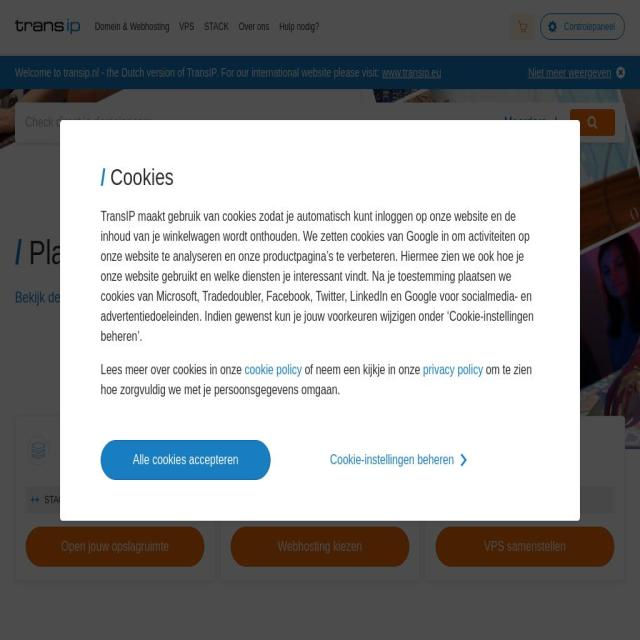button: (230, 526, 409, 566), (435, 526, 614, 566), (26, 526, 204, 566), (100, 439, 270, 480), (330, 449, 469, 470), (15, 288, 149, 308), (274, 6, 324, 56), (539, 13, 625, 40), (494, 109, 570, 136), (198, 6, 234, 56), (15, 13, 80, 40), (527, 66, 625, 79), (570, 109, 615, 136), (509, 13, 535, 40)
field: (15, 102, 625, 142)
heading: (22, 234, 276, 271), (94, 6, 170, 46), (15, 288, 133, 308), (105, 163, 174, 190), (65, 432, 158, 447), (66, 452, 155, 467), (238, 6, 270, 46), (475, 432, 551, 447), (475, 452, 544, 467), (270, 452, 337, 467), (270, 432, 314, 447), (179, 6, 194, 46), (15, 234, 22, 271), (137, 290, 149, 305), (100, 163, 106, 190)
image: (15, 634, 320, 640), (15, 18, 80, 35), (230, 433, 256, 467), (435, 433, 461, 467), (26, 433, 50, 467), (459, 452, 469, 467), (517, 20, 527, 33), (588, 116, 598, 129), (547, 21, 557, 32), (550, 116, 560, 127), (616, 67, 625, 78)
link: (423, 362, 483, 376), (245, 362, 302, 376), (381, 66, 441, 79)
text: (100, 206, 540, 346), (100, 362, 532, 396), (15, 66, 382, 79), (330, 449, 454, 470), (100, 362, 244, 376), (301, 362, 423, 376), (248, 494, 368, 506), (450, 494, 558, 506), (44, 494, 150, 506), (528, 66, 612, 79), (564, 21, 615, 32), (30, 494, 40, 506), (235, 494, 243, 506), (440, 494, 445, 506)
